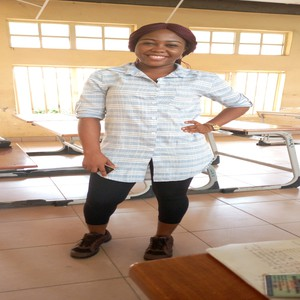Fulokoja_female_student: (91, 28, 197, 226)
